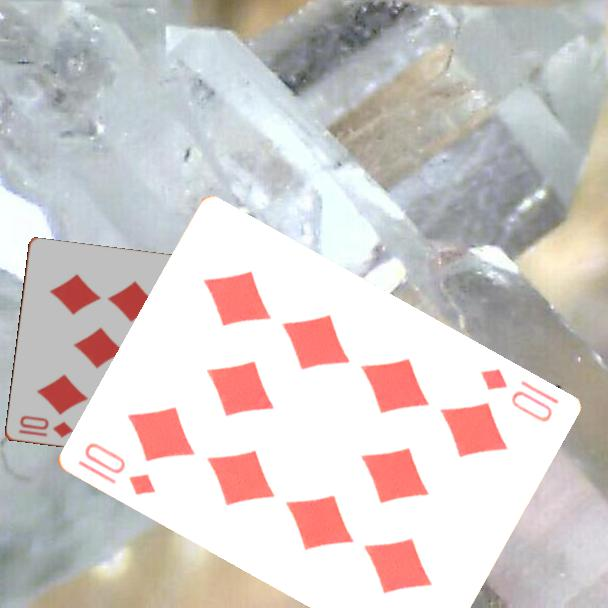d10: (475, 365, 562, 426), (80, 439, 158, 499), (15, 412, 76, 441)
